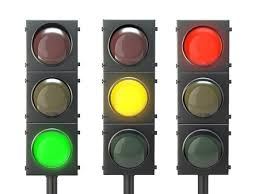green: (21, 15, 83, 181), (27, 20, 77, 175), (31, 23, 73, 169)
